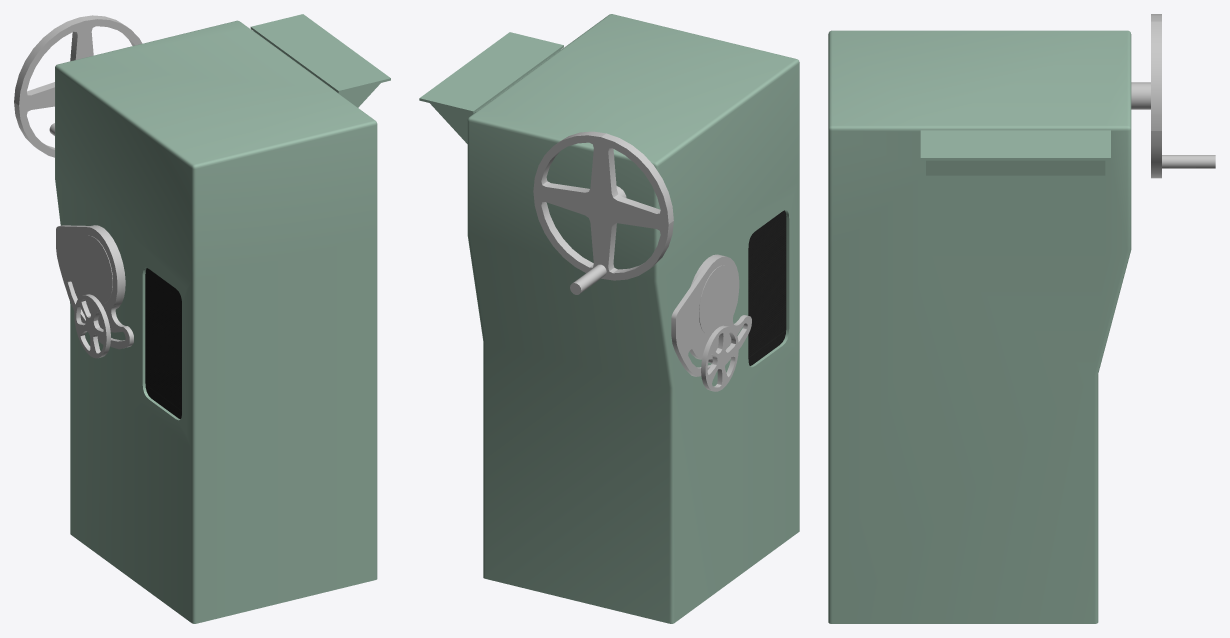
The model's file is me_localControl_console.fbx.
The picture shows the model from 3 angles, left to right: view 1: azimuth 30°, elevation 25°; view 2: azimuth 150°, elevation 25°; view 3: azimuth 270°, elevation 25°; orthographic projection. The views are drawn at different scales.
Parts seen in each view (by area): view 1: me_localControlConsole, me_localControl_rpmHandle, me_localControl_lockPlate, me_localControl_lock, me_localControl_handle; view 2: me_localControlConsole, me_localControl_rpmHandle, me_localControl_lockPlate, me_localControl_lock, me_localControl_handle; view 3: me_localControlConsole, me_localControl_rpmHandle.
Boxes of the visible parts, x1,y1,x2,y2 form: me_localControlConsole: [55, 14, 390, 623]; me_localControl_rpmHandle: [14, 15, 142, 157]; me_localControl_lockPlate: [56, 225, 133, 349]; me_localControl_lock: [77, 225, 125, 309]; me_localControl_handle: [74, 294, 110, 358]; me_localControlConsole: [419, 14, 799, 623]; me_localControl_rpmHandle: [533, 131, 673, 294]; me_localControl_lockPlate: [671, 255, 751, 376]; me_localControl_lock: [690, 254, 735, 335]; me_localControl_handle: [701, 325, 738, 391]; me_localControlConsole: [828, 30, 1131, 623]; me_localControl_rpmHandle: [1131, 14, 1215, 178].
Bounding box in the file's own units: 60.67 × 106 × 70.66.
